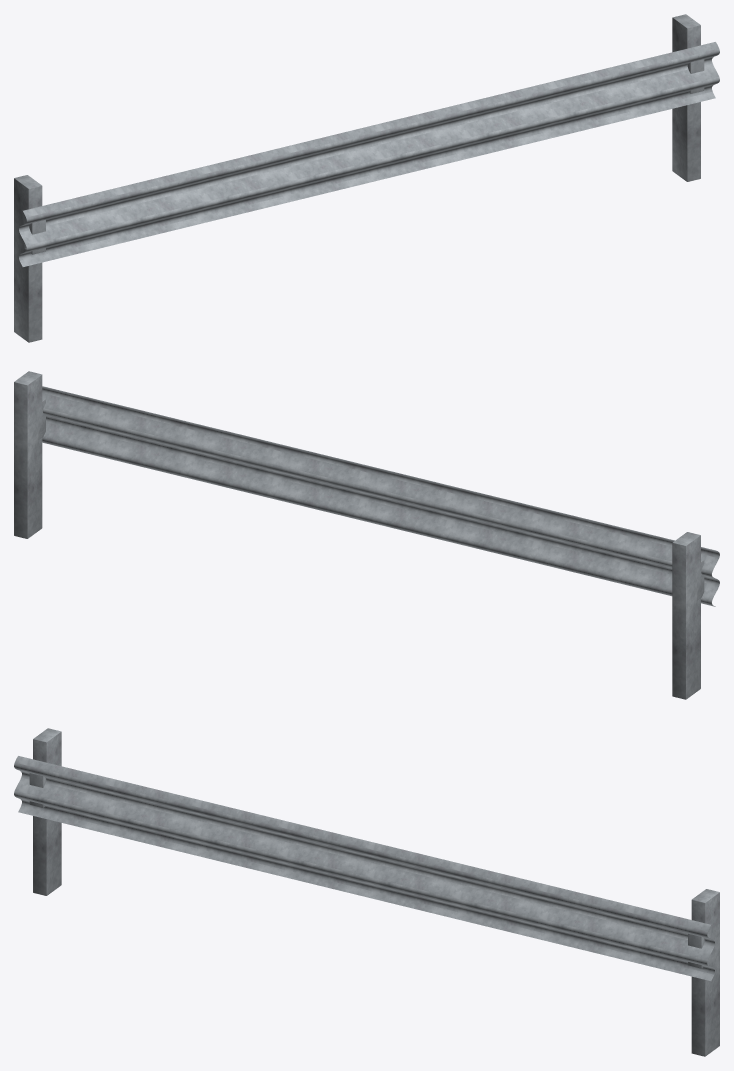
The model's file is PAV-SIN-003.glb.
3 views of the same model, one above another, from view 1: azimuth 30°, elevation 25°; view 2: azimuth 150°, elevation 25°; view 3: azimuth 330°, elevation 25° (orthographic).
Parts seen in each view (by area): view 1: PAV-SIN-003_lamina, PAV-SIN-003_poste-19, PAV-SIN-003_poste19; view 2: PAV-SIN-003_lamina, PAV-SIN-003_poste19, PAV-SIN-003_poste-19; view 3: PAV-SIN-003_lamina, PAV-SIN-003_poste19, PAV-SIN-003_poste-19.
Boxes of the visible parts, <box> form: PAV-SIN-003_lamina: <box>18,42,719,266</box>; PAV-SIN-003_poste-19: <box>14,175,42,342</box>; PAV-SIN-003_poste19: <box>672,14,700,181</box>; PAV-SIN-003_lamina: <box>42,386,719,606</box>; PAV-SIN-003_poste19: <box>14,371,42,538</box>; PAV-SIN-003_poste-19: <box>672,532,700,699</box>; PAV-SIN-003_lamina: <box>14,756,715,980</box>; PAV-SIN-003_poste19: <box>691,889,719,1056</box>; PAV-SIN-003_poste-19: <box>33,728,61,895</box>.
Size of the model in its own units: 4 by 0.85 by 0.235.
1 material, 1 textured.
